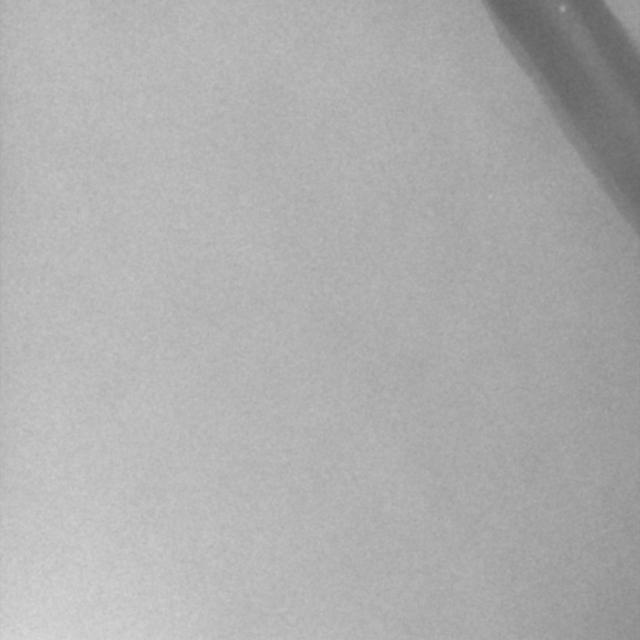air-hole: (559, 3, 568, 13)
